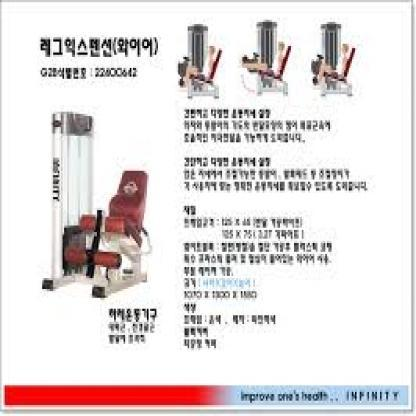leg extension: (31, 96, 173, 308)
